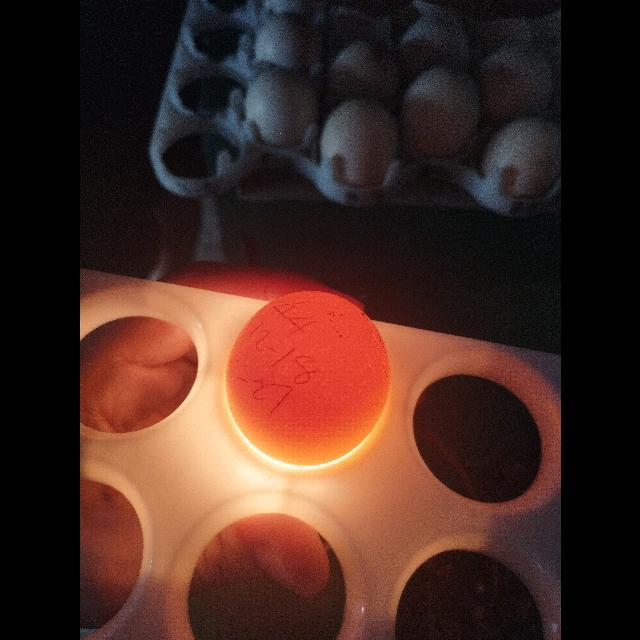Infertile: (223, 288, 393, 470)
